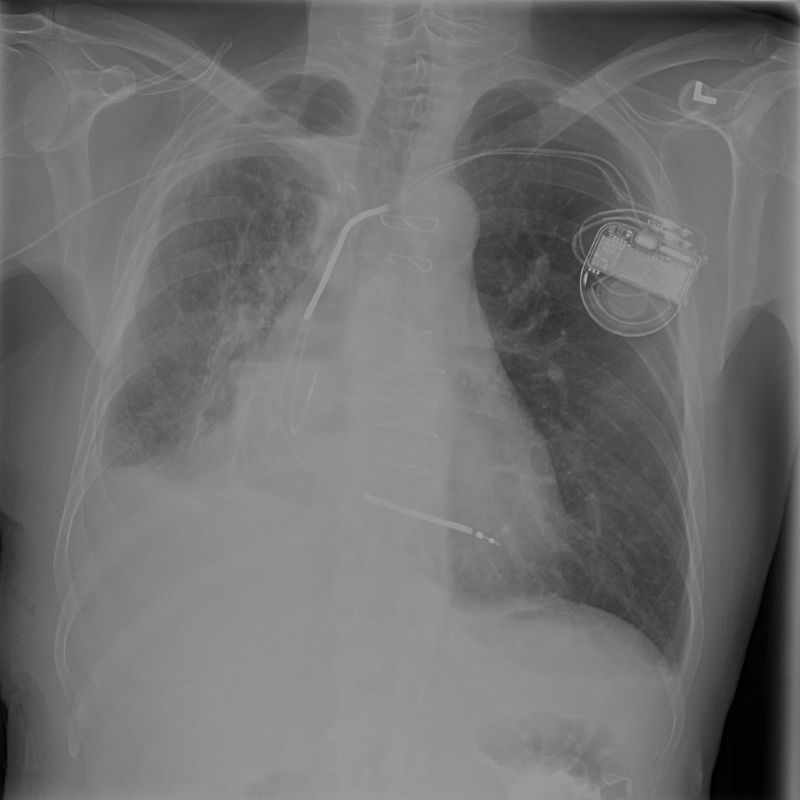PLEURAL EFFUSION: (84, 434, 234, 584)
